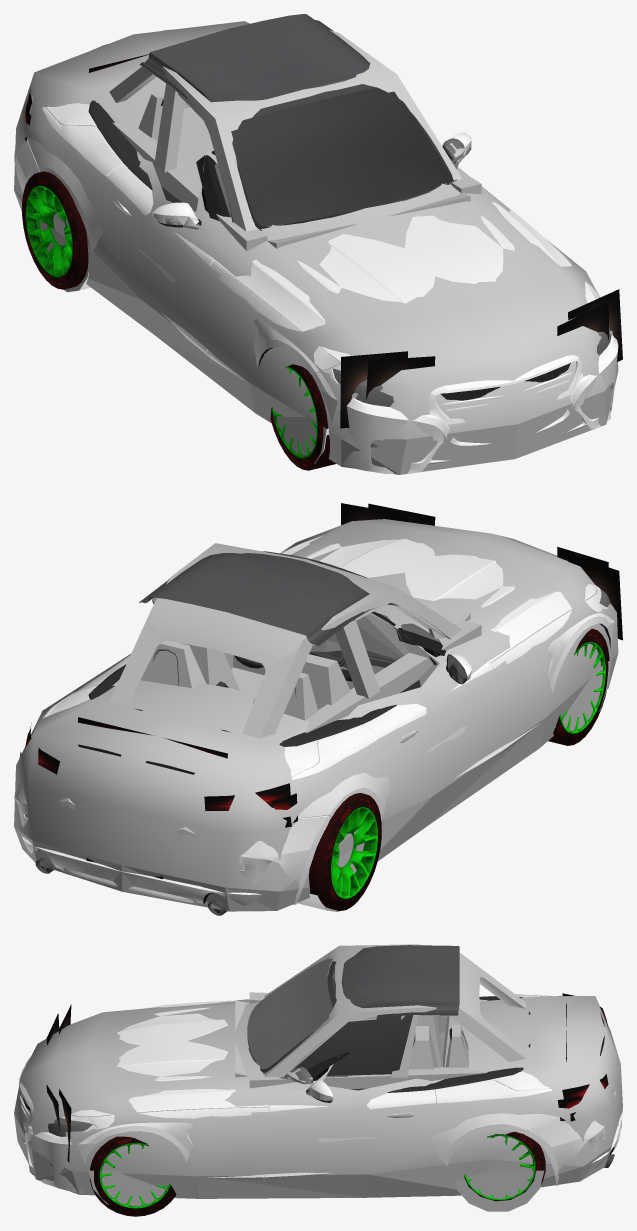
File: P_car-012_Zacab.fbx
The picture shows the model from 3 angles, top to bottom: view 1: azimuth 30°, elevation 25°; view 2: azimuth 150°, elevation 25°; view 3: azimuth 270°, elevation 25°; orthographic projection. The views are drawn at different scales.
Visible parts, largest first — view 1: M_Car-012_ShadowForm_Zacab_01, M_Car-012_Body_Zacab_01 (1), M_Car-Interior_Glass_01, M_Car-Interior_Details_01, M_Car-Interior_Shadowform_01, M_Car-012_FrontFlares_Zacab_01, M_CarWheel_003_AP_01 (×2), M_Car-012_Details_Zacab_01 (1), M_CaTire_003_AP_01, M_Car-012_Interior_Zacab_01, M_Car-012_Glass_Zacab_01 (1), M_CaTire_003_AP_02; view 2: M_Car-012_ShadowForm_Zacab_01, M_Car-012_Body_Zacab_01 (1), M_Car-Interior_Shadowform_01, M_Car-Interior_Details_01, M_CarWheel_003_AP_01 (×2), M_Car-012_FrontFlares_Zacab_01, M_CaTire_003_AP_02 (×2), M_Car-012_Interior_Zacab_01, M_Car-012_Details_Zacab_01 (1), M_Car-012_BackFlaresBrake_Zacab_01, M_CaTire_003_AP_01; view 3: M_Car-012_ShadowForm_Zacab_01, M_Car-012_Body_Zacab_01 (1), M_Car-Interior_Shadowform_01, M_Car-Interior_Glass_01, M_Car-Interior_Details_01, M_CarWheel_003_AP_01 (×2), M_Car-012_Interior_Zacab_01, M_Car-012_FrontFlares_Zacab_01, M_Car-012_Details_Zacab_01 (1), M_CaTire_003_AP_01, M_Car-012_Glass_Zacab_01 (1), M_Car-012_BackFlaresBrake_Zacab_01 (+1 smaller).
Part boxes in pixels (left/top/right/bottom): M_Car-012_ShadowForm_Zacab_01: left=14, top=21, right=618, bottom=474; M_Car-012_Body_Zacab_01 (1): left=14, top=96, right=618, bottom=473; M_Car-Interior_Glass_01: left=231, top=87, right=449, bottom=226; M_Car-Interior_Details_01: left=139, top=14, right=464, bottom=230; M_Car-Interior_Shadowform_01: left=109, top=30, right=481, bottom=250; M_Car-012_FrontFlares_Zacab_01: left=340, top=289, right=622, bottom=428; M_CarWheel_003_AP_01 (×2): left=22, top=171, right=336, bottom=470; M_Car-012_Details_Zacab_01 (1): left=93, top=29, right=612, bottom=447; M_CaTire_003_AP_01: left=25, top=185, right=60, bottom=276; M_Car-012_Interior_Zacab_01: left=88, top=99, right=181, bottom=202; M_Car-012_Glass_Zacab_01 (1): left=214, top=163, right=611, bottom=406; M_CaTire_003_AP_02: left=52, top=193, right=72, bottom=277; M_Car-012_ShadowForm_Zacab_01: left=14, top=519, right=618, bottom=912; M_Car-012_Body_Zacab_01 (1): left=14, top=535, right=614, bottom=905; M_Car-Interior_Shadowform_01: left=109, top=543, right=481, bottom=738; M_Car-Interior_Details_01: left=139, top=551, right=450, bottom=669; M_CarWheel_003_AP_01 (×2): left=309, top=628, right=609, bottom=910; M_Car-012_FrontFlares_Zacab_01: left=341, top=503, right=622, bottom=640; M_CaTire_003_AP_02 (×2): left=346, top=641, right=605, bottom=891; M_Car-012_Interior_Zacab_01: left=88, top=648, right=420, bottom=746; M_Car-012_Details_Zacab_01 (1): left=35, top=598, right=610, bottom=915; M_Car-012_BackFlaresBrake_Zacab_01: left=26, top=717, right=291, bottom=810; M_CaTire_003_AP_01: left=331, top=808, right=359, bottom=899; M_Car-012_ShadowForm_Zacab_01: left=14, top=996, right=622, bottom=1211; M_Car-012_Body_Zacab_01 (1): left=19, top=994, right=622, bottom=1194; M_Car-Interior_Shadowform_01: left=235, top=944, right=526, bottom=1088; M_Car-Interior_Glass_01: left=247, top=958, right=413, bottom=1076; M_Car-Interior_Details_01: left=247, top=945, right=459, bottom=1088; M_CarWheel_003_AP_01 (×2): left=90, top=1131, right=545, bottom=1216; M_Car-012_Interior_Zacab_01: left=349, top=996, right=530, bottom=1092; M_Car-012_FrontFlares_Zacab_01: left=46, top=1004, right=71, bottom=1162; M_Car-012_Details_Zacab_01 (1): left=23, top=1012, right=614, bottom=1167; M_CaTire_003_AP_01: left=99, top=1142, right=144, bottom=1208; M_Car-012_Glass_Zacab_01 (1): left=48, top=1118, right=92, bottom=1136; M_Car-012_BackFlaresBrake_Zacab_01: left=562, top=993, right=608, bottom=1105.
Bounding box in the file's own units: 1.93 × 1.46 × 4.18.
